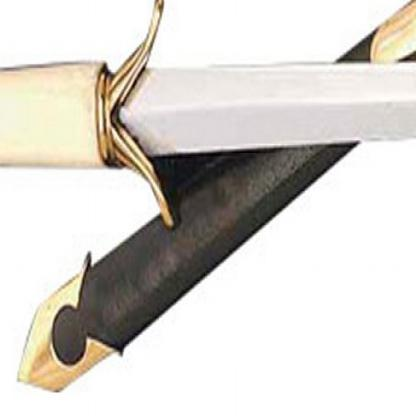knife: (167, 21, 415, 182)
